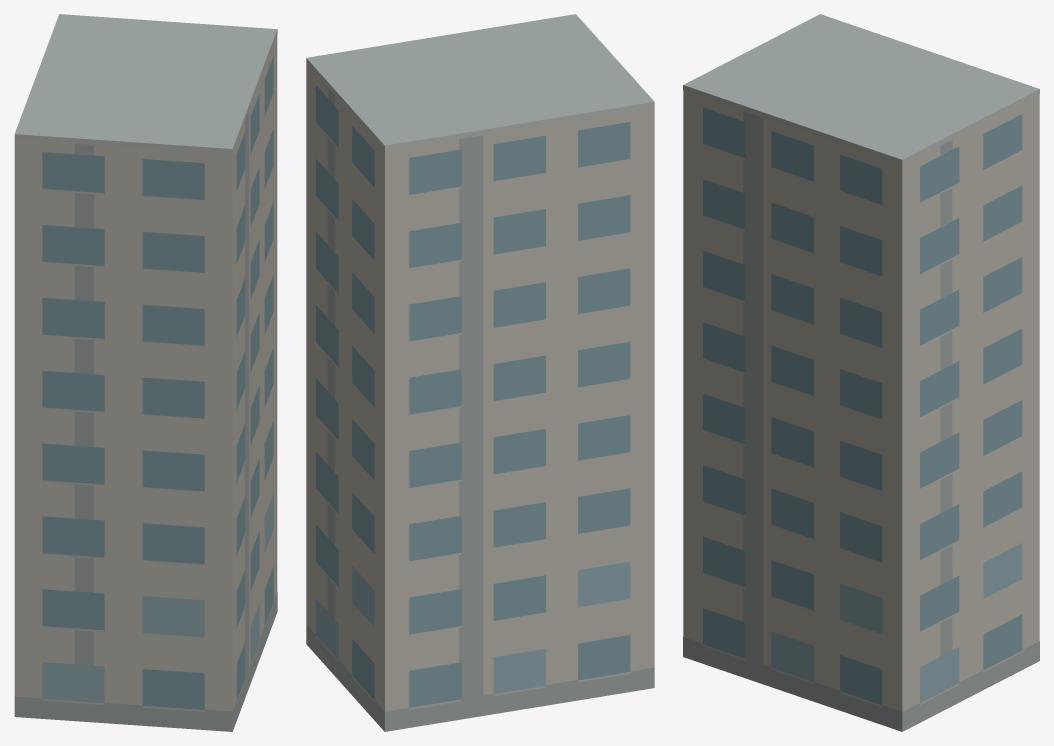
File: survey-upis-32563637.glb
3 renders of one model, left to right at view 1: azimuth 30°, elevation 25°; view 2: azimuth 150°, elevation 25°; view 3: azimuth 270°, elevation 25°, orthographic. The views are drawn at different scales.
Parts seen in each view (by area): view 1: survey-upis-32563637.tmp; view 2: survey-upis-32563637.tmp; view 3: survey-upis-32563637.tmp.
Part boxes in pixels (left/top/right/bottom): survey-upis-32563637.tmp: left=14, top=14, right=277, bottom=731; survey-upis-32563637.tmp: left=306, top=14, right=654, bottom=731; survey-upis-32563637.tmp: left=683, top=14, right=1039, bottom=731.
Bounding box in the file's own units: 13.95 × 25.5 × 14.41.
